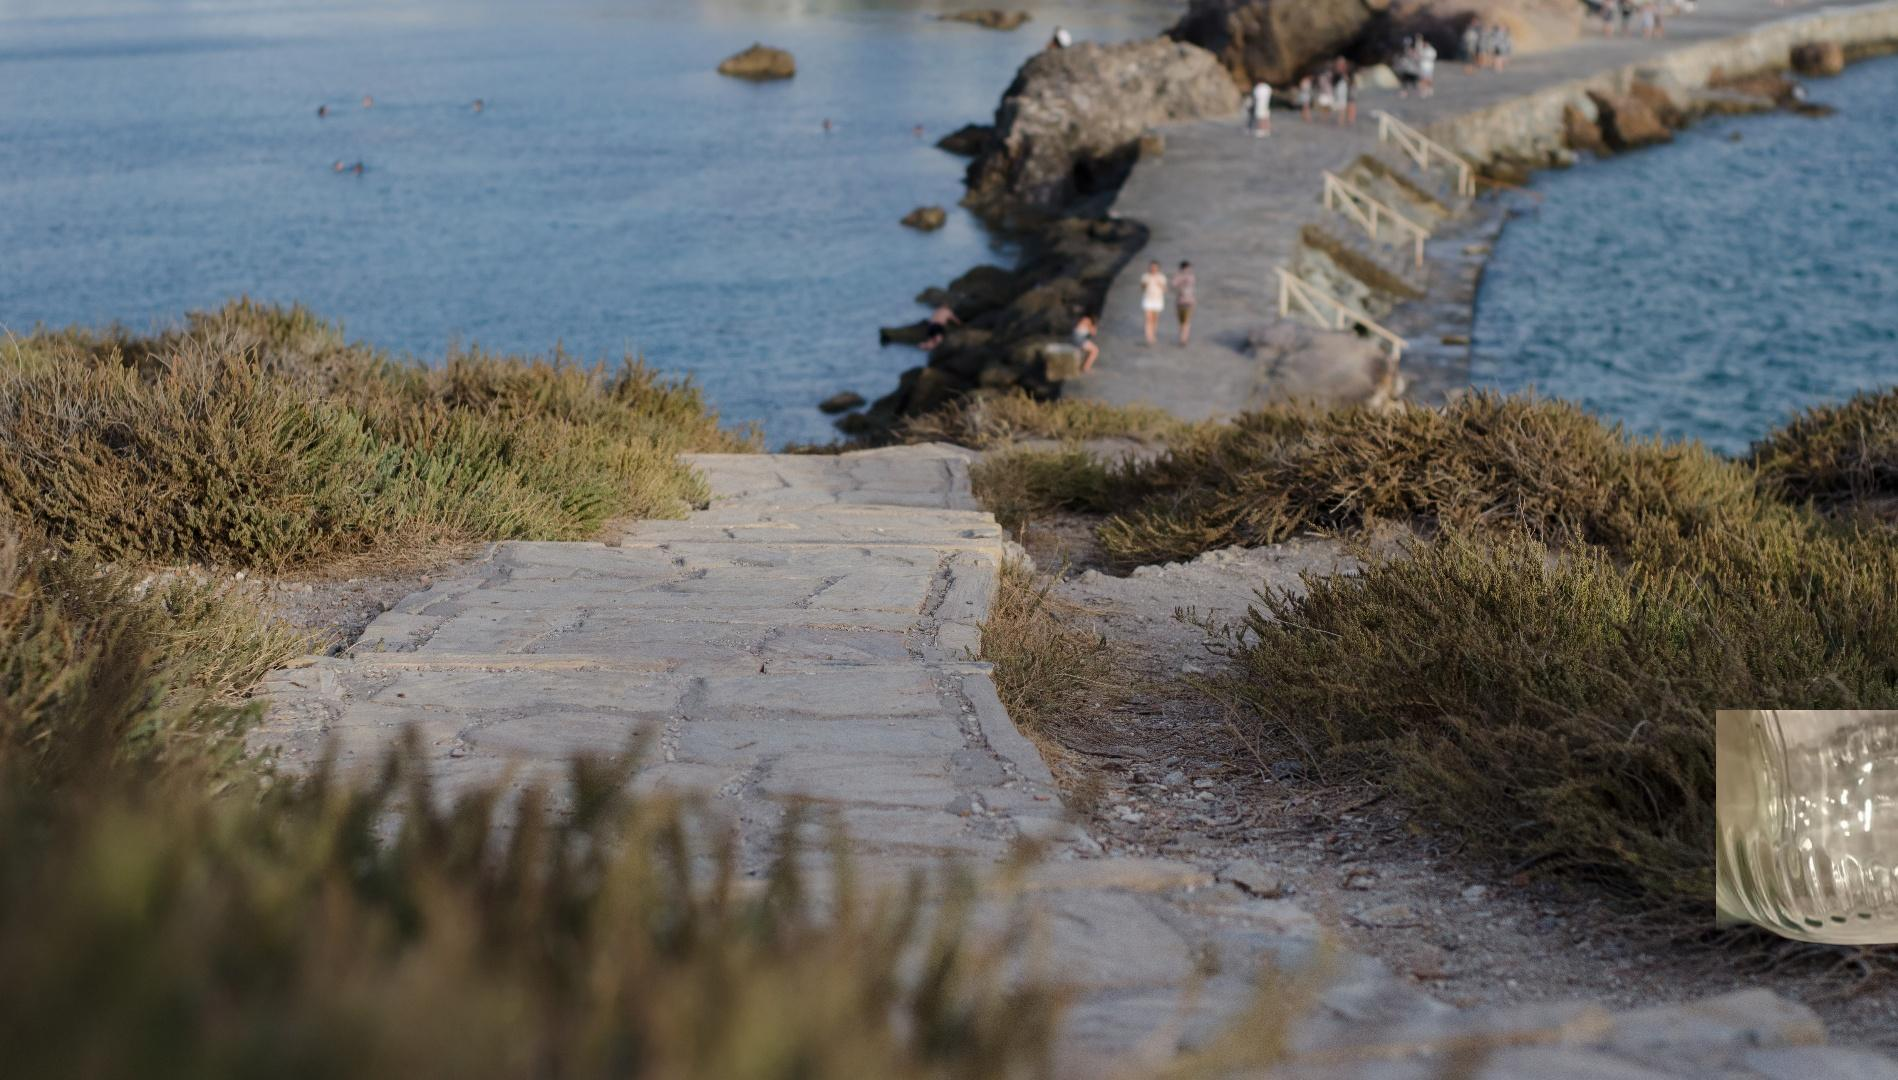glass: (1715, 710, 1898, 950)
